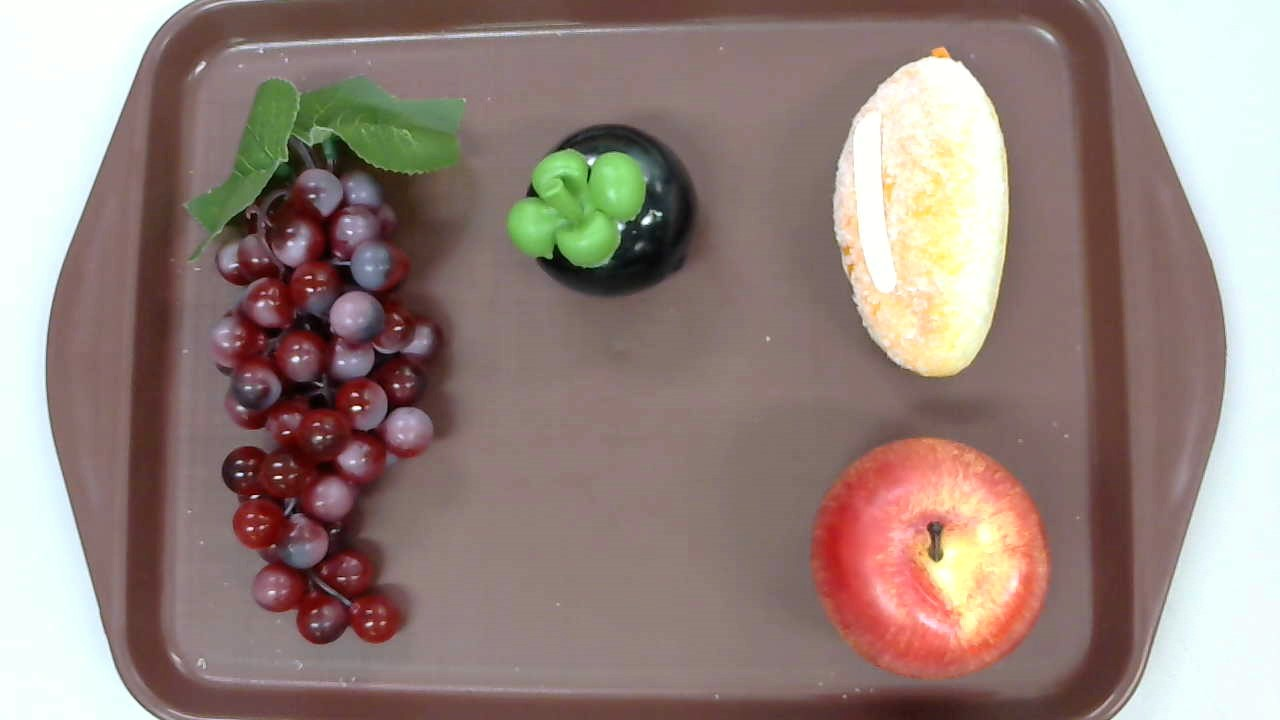coconut: (832, 46, 1009, 378)
grape: (181, 75, 467, 644)
mangosteen: (506, 123, 699, 299)
red apple: (810, 436, 1050, 683)
